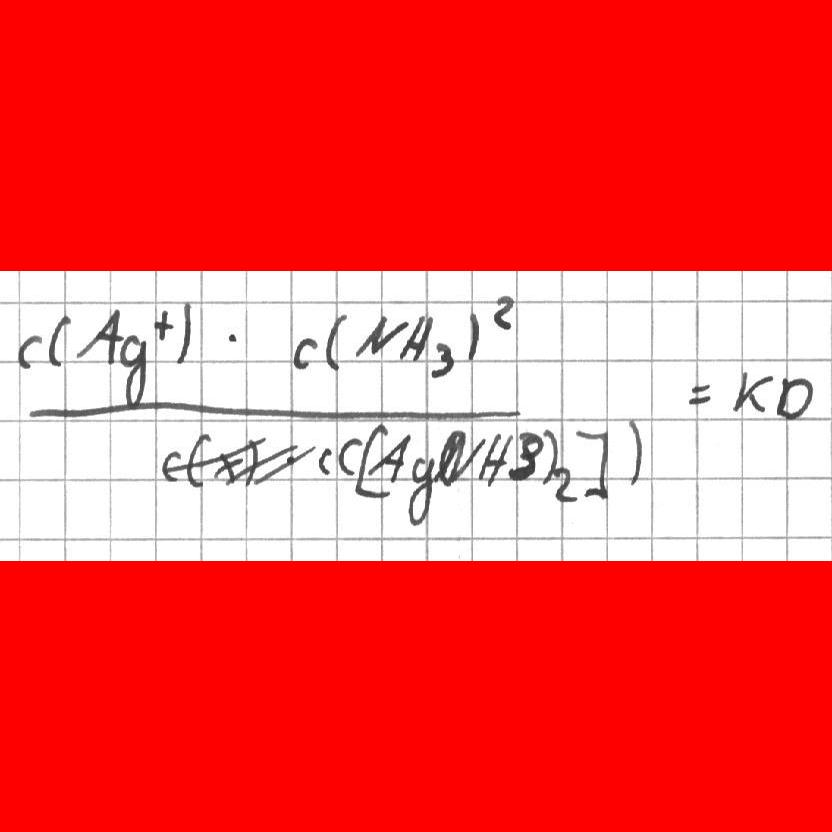Char: (23, 396, 522, 421), (574, 427, 613, 502), (73, 307, 122, 364), (356, 417, 390, 498), (354, 315, 409, 357), (404, 455, 436, 526), (117, 332, 146, 409), (367, 432, 411, 482), (730, 369, 774, 417), (480, 429, 513, 487), (398, 312, 434, 360), (775, 376, 814, 420), (511, 429, 541, 484), (323, 309, 348, 371), (625, 415, 645, 488), (46, 314, 72, 368), (173, 299, 194, 365), (14, 331, 44, 371), (336, 435, 363, 479), (290, 332, 318, 370), (541, 426, 558, 487), (491, 292, 516, 332), (552, 465, 577, 503), (157, 447, 182, 485), (429, 342, 455, 378), (151, 307, 173, 343), (466, 309, 480, 362), (686, 380, 713, 407), (316, 446, 333, 477), (223, 327, 243, 349)
